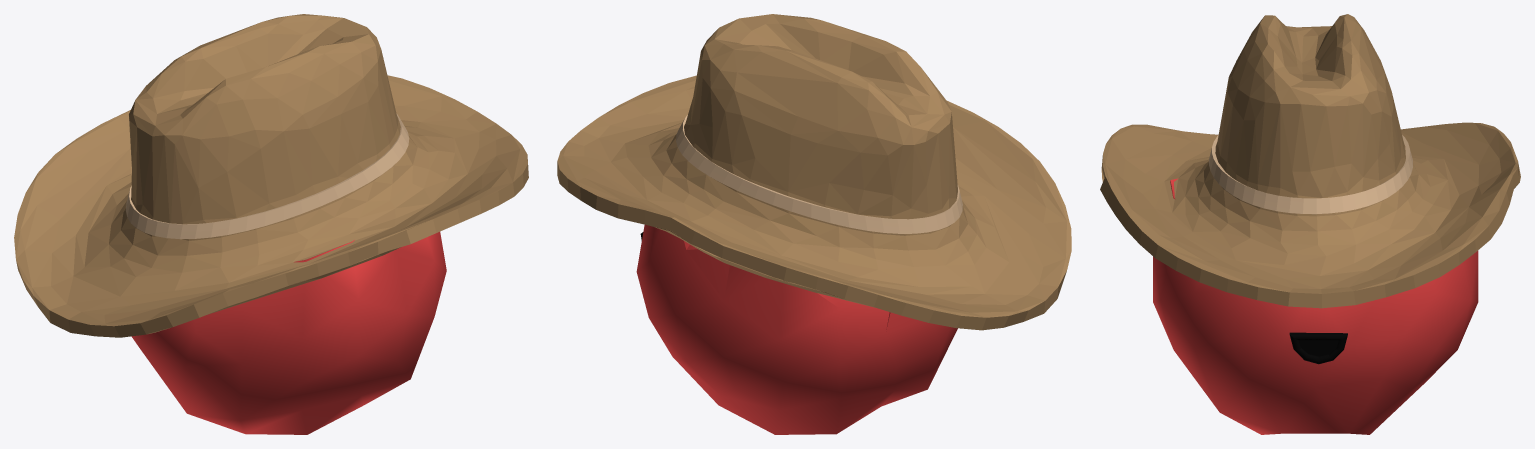
File: tomatoNPC 1.fbx
3 renders of one model, left to right at view 1: azimuth 30°, elevation 25°; view 2: azimuth 150°, elevation 25°; view 3: azimuth 270°, elevation 25°, orthographic.
Visible parts, largest first — view 1: Hat, Tomato.1; view 2: Hat, Tomato.1; view 3: Hat, Tomato.1, toonyMouths.
Boxes of the visible parts, x1,y1,x2,y2 form: Hat: (14, 14, 528, 337); Tomato.1: (131, 232, 446, 434); Hat: (557, 14, 1071, 330); Tomato.1: (636, 224, 957, 434); Hat: (1100, 14, 1520, 308); Tomato.1: (1153, 178, 1478, 434); toonyMouths: (1289, 332, 1347, 364).
Bounding box in the file's own units: 830 × 652 × 656.
